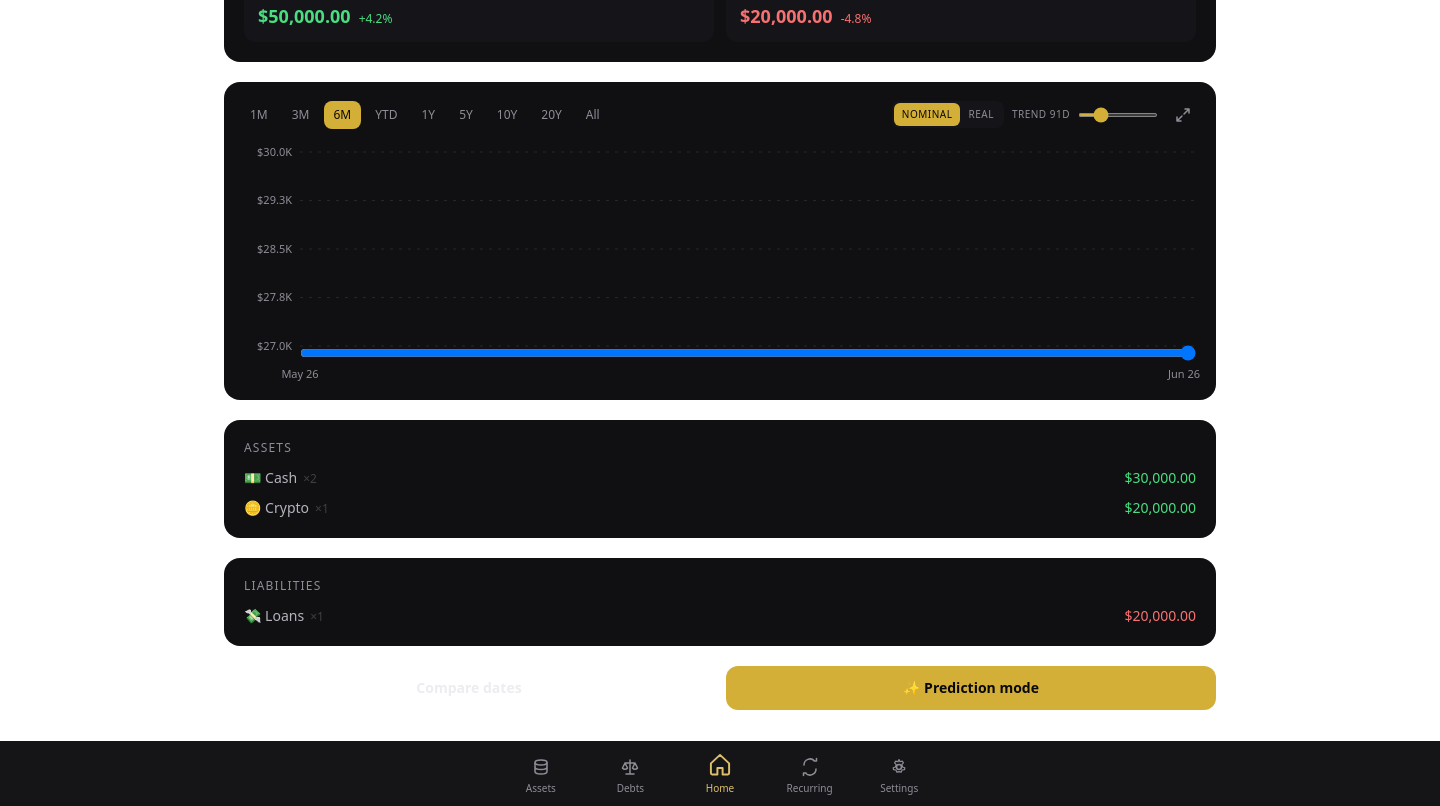
Test case: dashboard › enters prediction mode: fetches projections, hides MAX, offers a golden exit
The width and height of the screenshot is (1440, 806).
(page scrolled)
expect the button "All" is shown: met, box [576,100,610,128]
Step 1. Click the button "✨ Prediction mode" → (971, 688), box [726,666,1216,710]
(page scrolled)
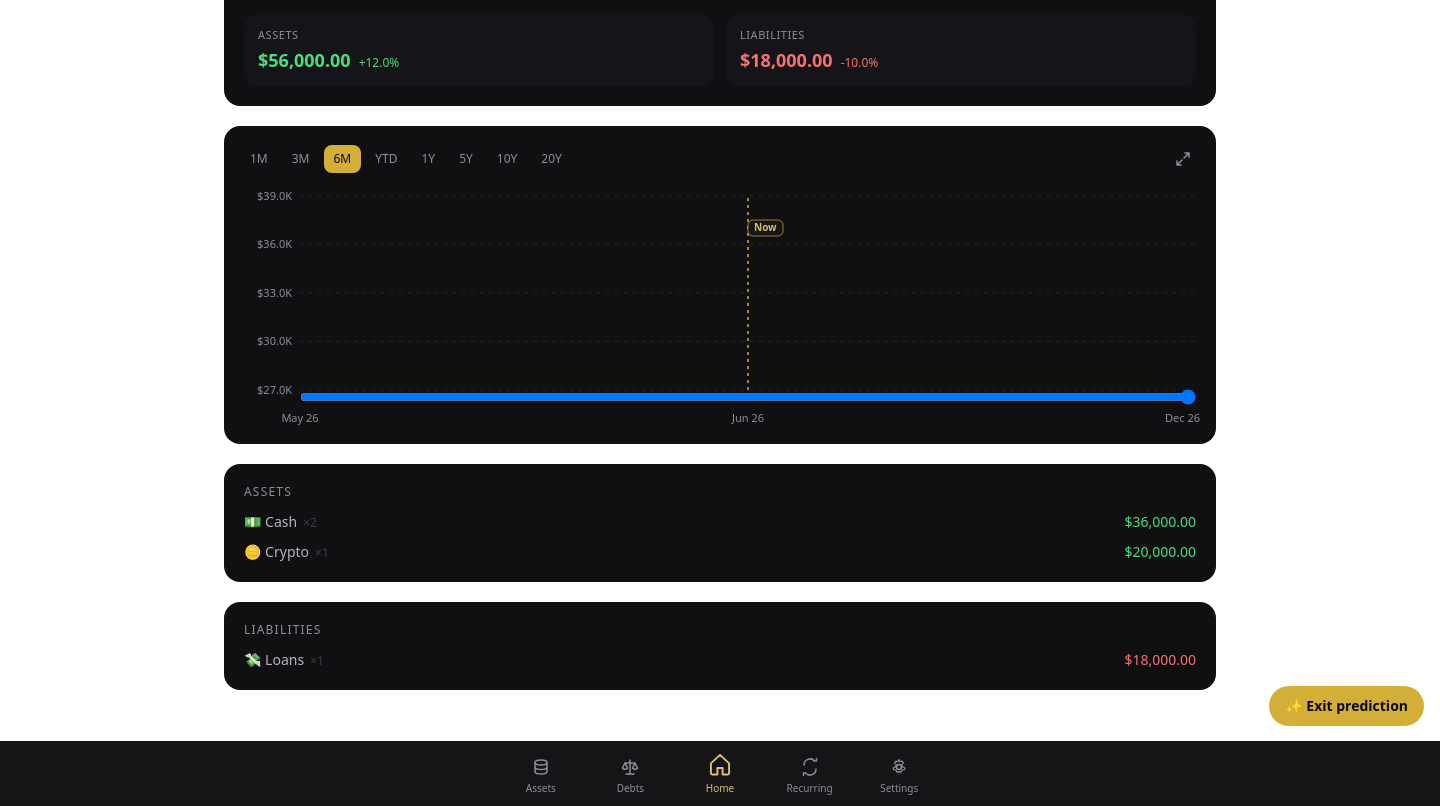
expect the button "prediction mode" is not shown: met
expect the button "All" is gone: met
expect the button "✨ Exit prediction" is shown: met
Step 2. Click the button "✨ Exit prediction" → (1347, 706), box [1269,686,1424,726]
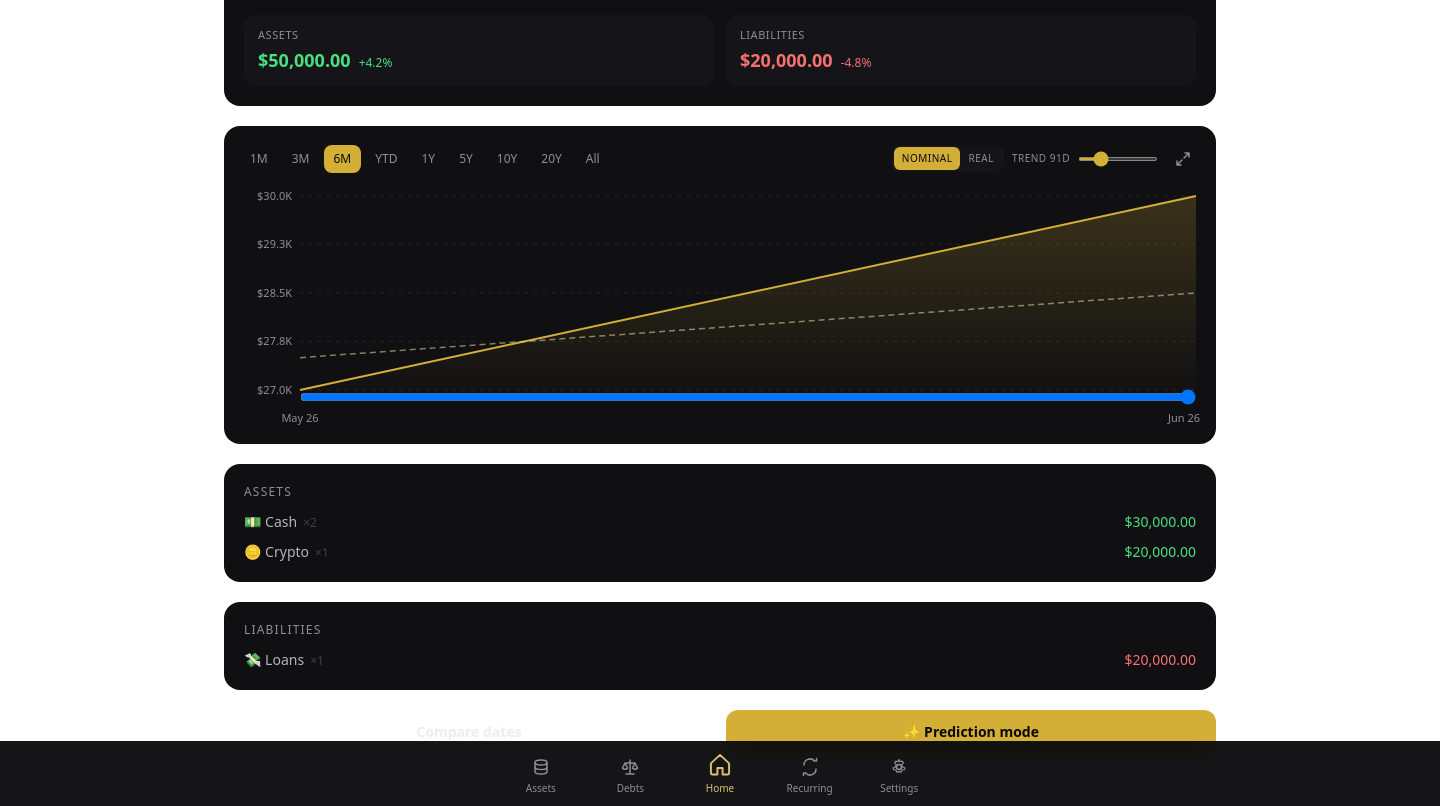
expect the button "✨ Prediction mode" is shown: met, box [726,710,1216,754]
